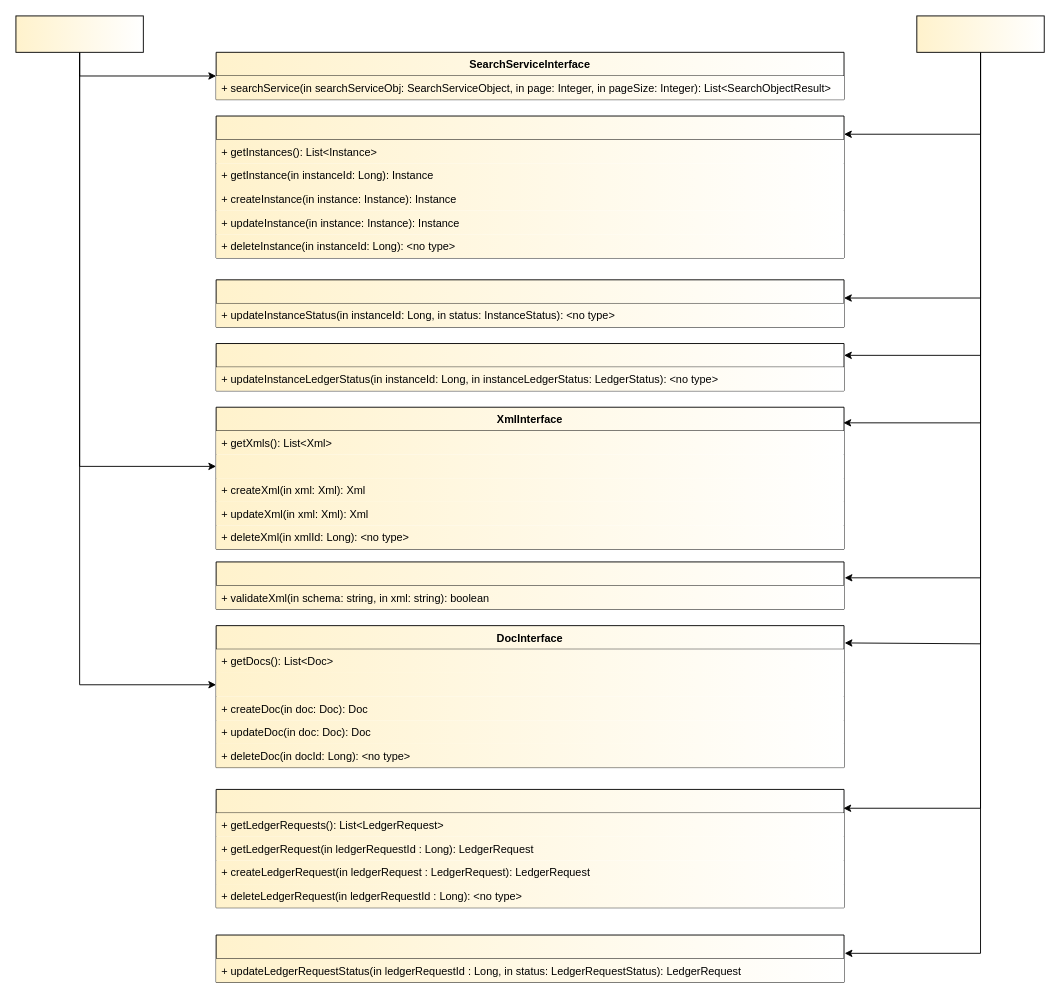
Some shapes in this 1060 by 1001 pixel diagram are drawn without their labels. The shapes that lost their labels are listed below. From the top down, each one's box as (x1, y1, x2, y2) in pixels, then its label:
(15, 15, 143, 52): Service Consumer
(916, 15, 1044, 52): Service Provider
(215, 115, 844, 258): InstanceInterface
(215, 279, 844, 327): InstanceStatusInterface
(215, 343, 844, 391): InstanceLedgerStatusInterface
(216, 454, 844, 478): + getXml(in xmlId: Long): Xml
(215, 561, 844, 609): XmlValidationInterface
(216, 672, 844, 696): + getDoc(in docId: Long): Doc
(215, 789, 844, 908): LedgerRequestInterface
(215, 934, 844, 982): LedgerRequestStatusInterface
